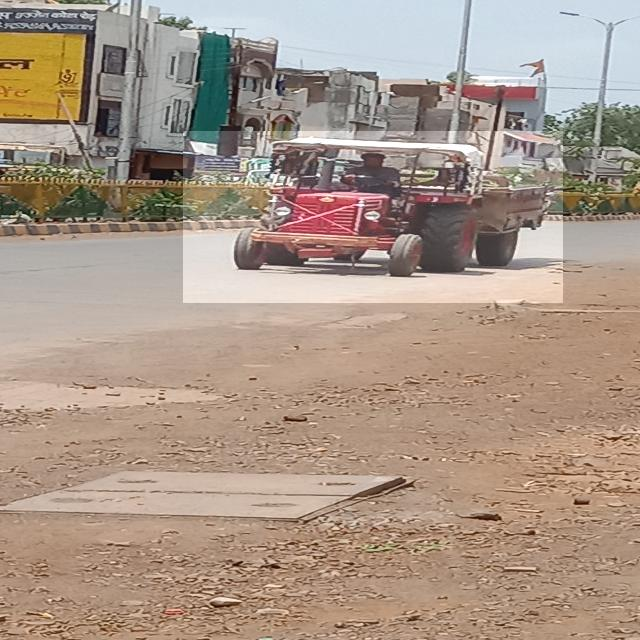Tractot: (184, 132, 564, 304)
